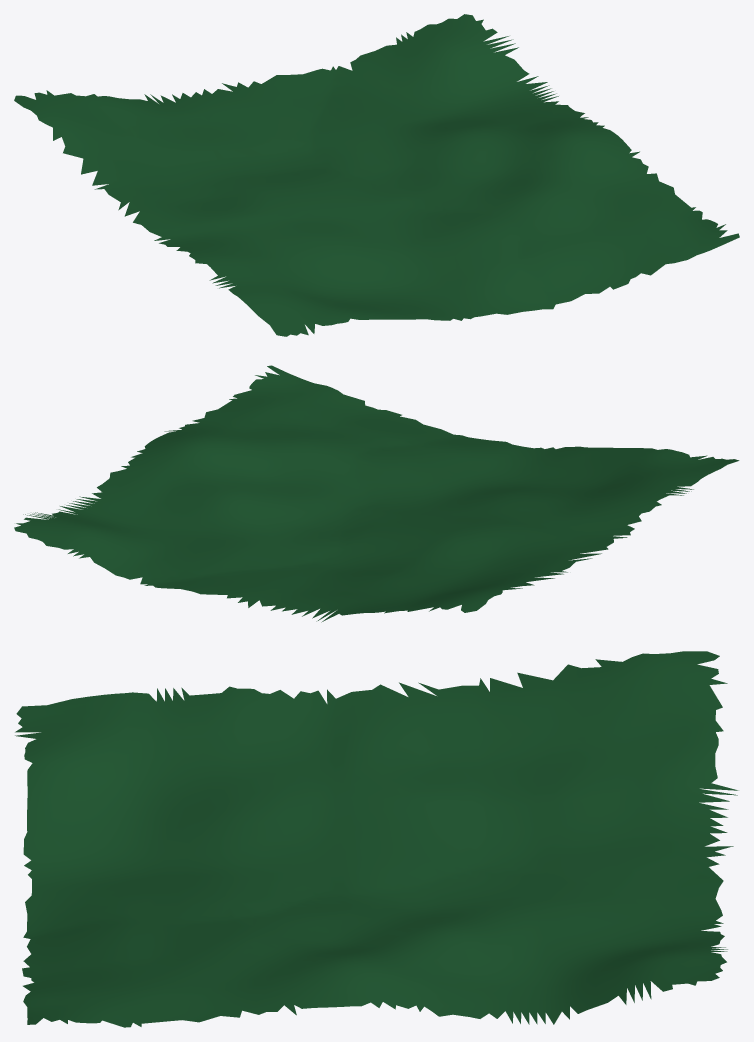
Rendered from payo_land_xm4_y2.glb.
The picture shows the model from 3 angles, top to bottom: view 1: azimuth 30°, elevation 25°; view 2: azimuth 150°, elevation 25°; view 3: azimuth 270°, elevation 25°; orthographic projection. The views are drawn at different scales.
Parts seen in each view (by area): view 1: payo_land_xm4_y2; view 2: payo_land_xm4_y2; view 3: payo_land_xm4_y2.
Part boxes in pixels (box(x1,y1,x2,y2)): payo_land_xm4_y2: box(14, 14, 739, 336); payo_land_xm4_y2: box(14, 365, 739, 622); payo_land_xm4_y2: box(15, 651, 738, 1027).
Bounding box in the file's own units: 270 × 44.95 × 269.
